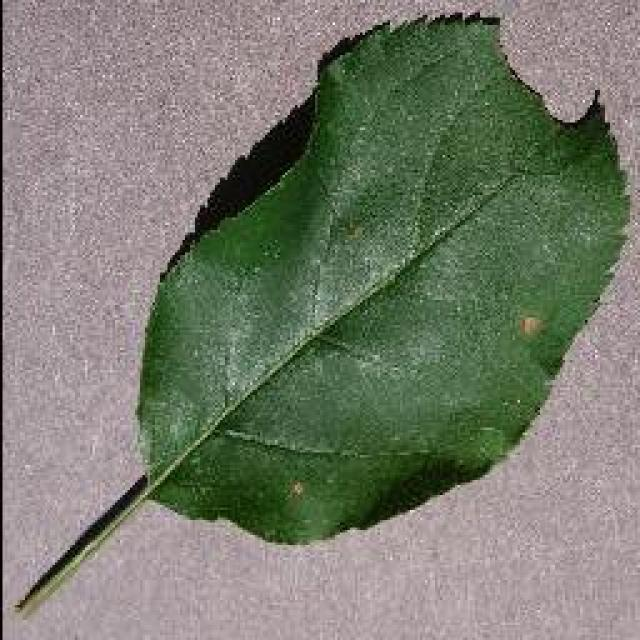Black_rot: (12, 8, 632, 618)
